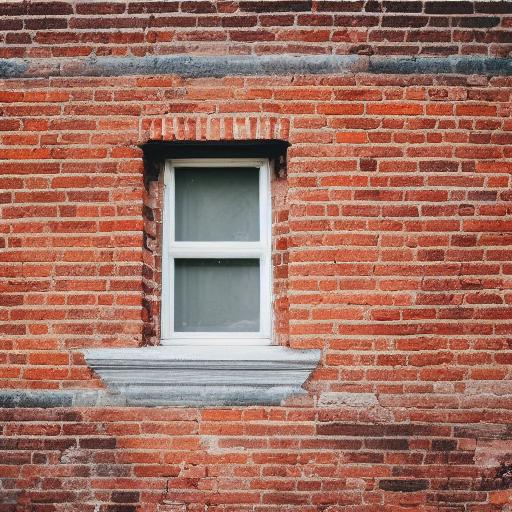Window: (82, 117, 324, 405)
